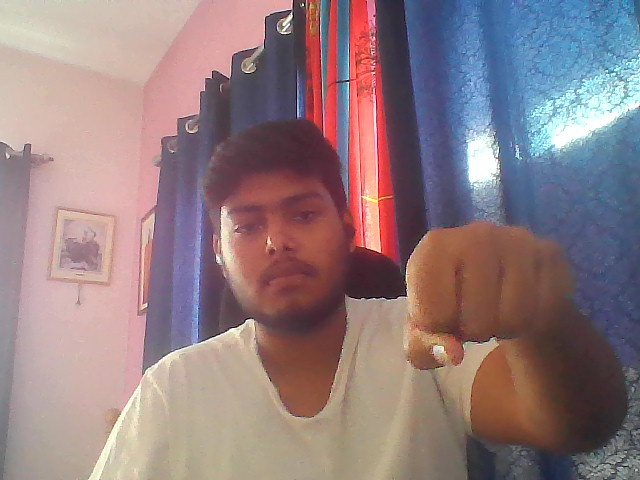Yes: (389, 211, 604, 372)
